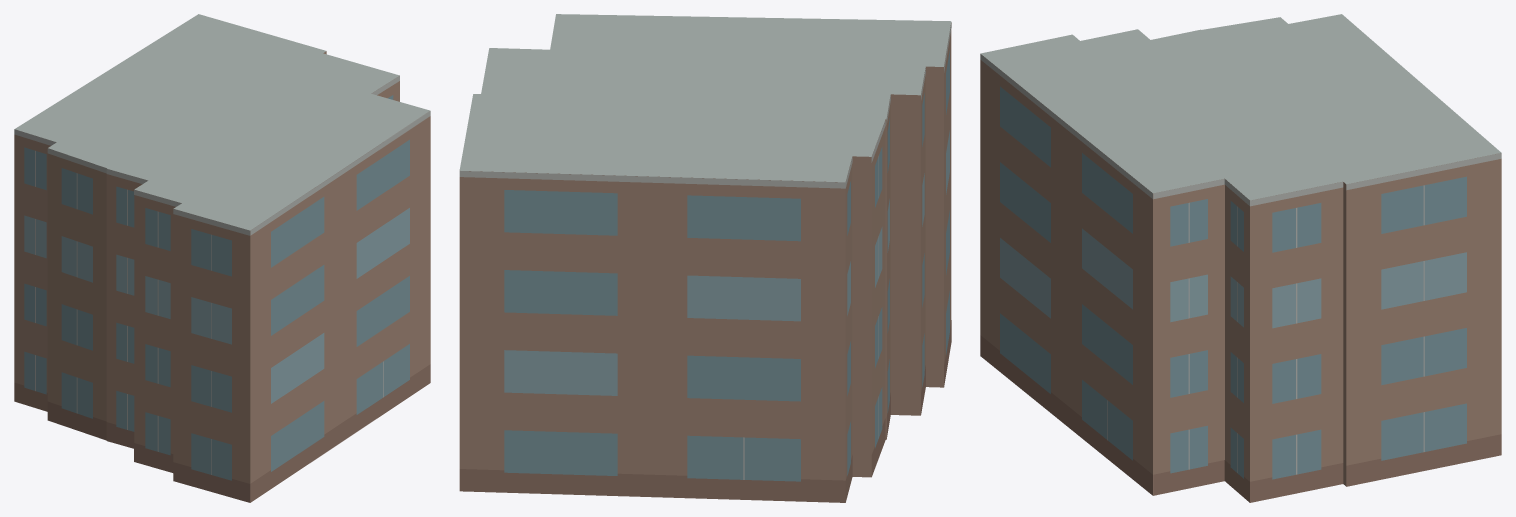
File: survey-upis-32956168.glb
3 views of the same model, side by side, from view 1: azimuth 30°, elevation 25°; view 2: azimuth 150°, elevation 25°; view 3: azimuth 270°, elevation 25° (orthographic). The views are drawn at different scales.
Visible parts, largest first — view 1: survey-upis-32956168.tmp; view 2: survey-upis-32956168.tmp; view 3: survey-upis-32956168.tmp.
Boxes of the visible parts, bbox=[...] form: survey-upis-32956168.tmp: bbox=[14, 14, 430, 502]; survey-upis-32956168.tmp: bbox=[459, 14, 951, 502]; survey-upis-32956168.tmp: bbox=[980, 14, 1501, 502].
Bounding box in the file's own units: 16.54 × 12.5 × 19.54.
